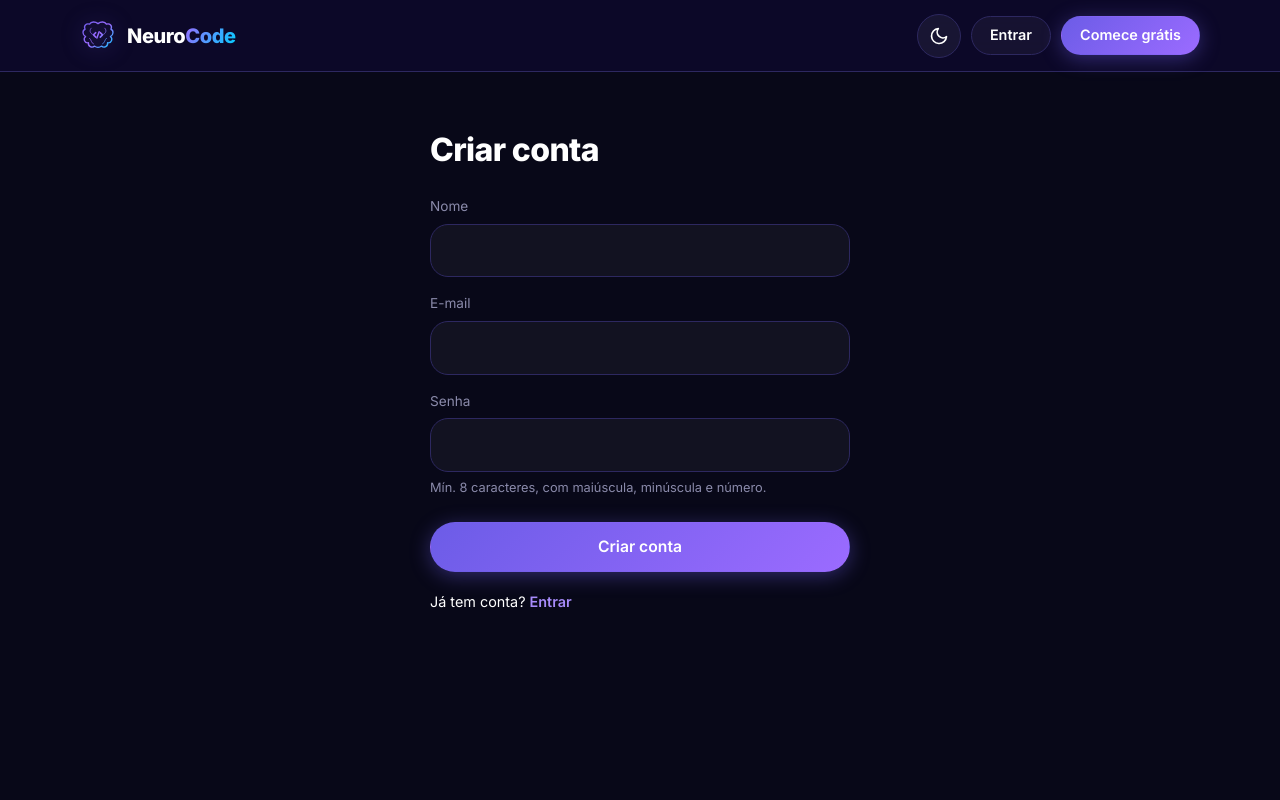
Test: Cadastro › cria conta e cai na dashboard
Type "Rangel" into the field labelled "Nome" at [640, 250], box [430,224,850,277]
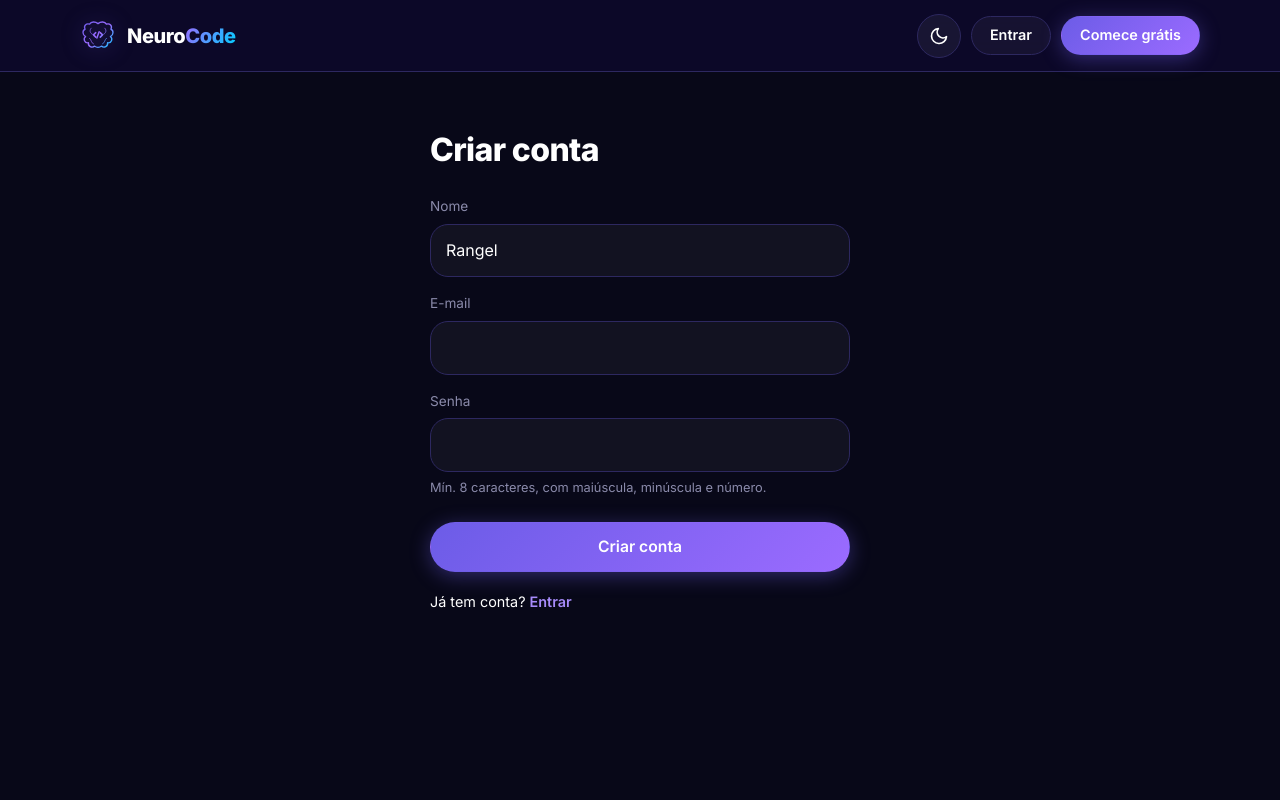
Type "r@neuro.dev" into the field labelled "E-mail" at [640, 348], box [430,321,850,374]
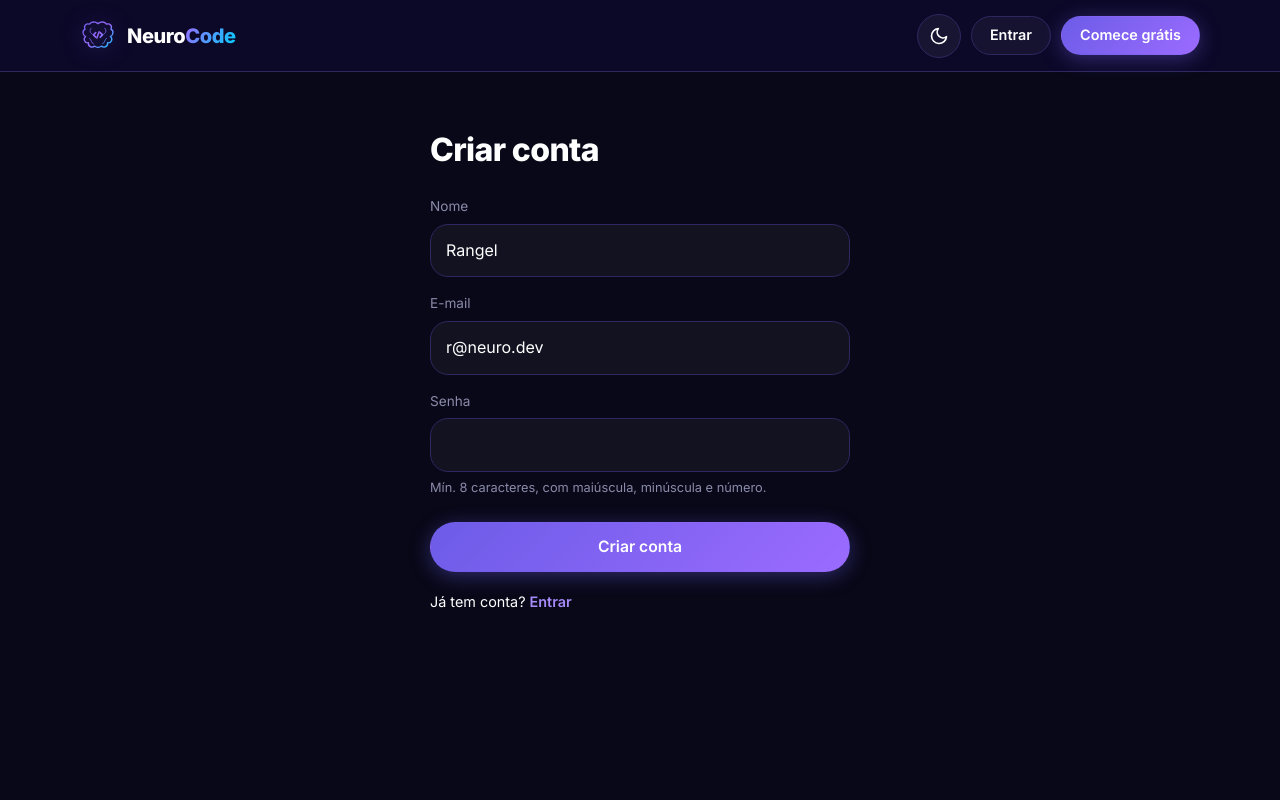
Type "Sup3rSecret" into the password field labelled "Senha" at [640, 445], box [430,418,850,472]
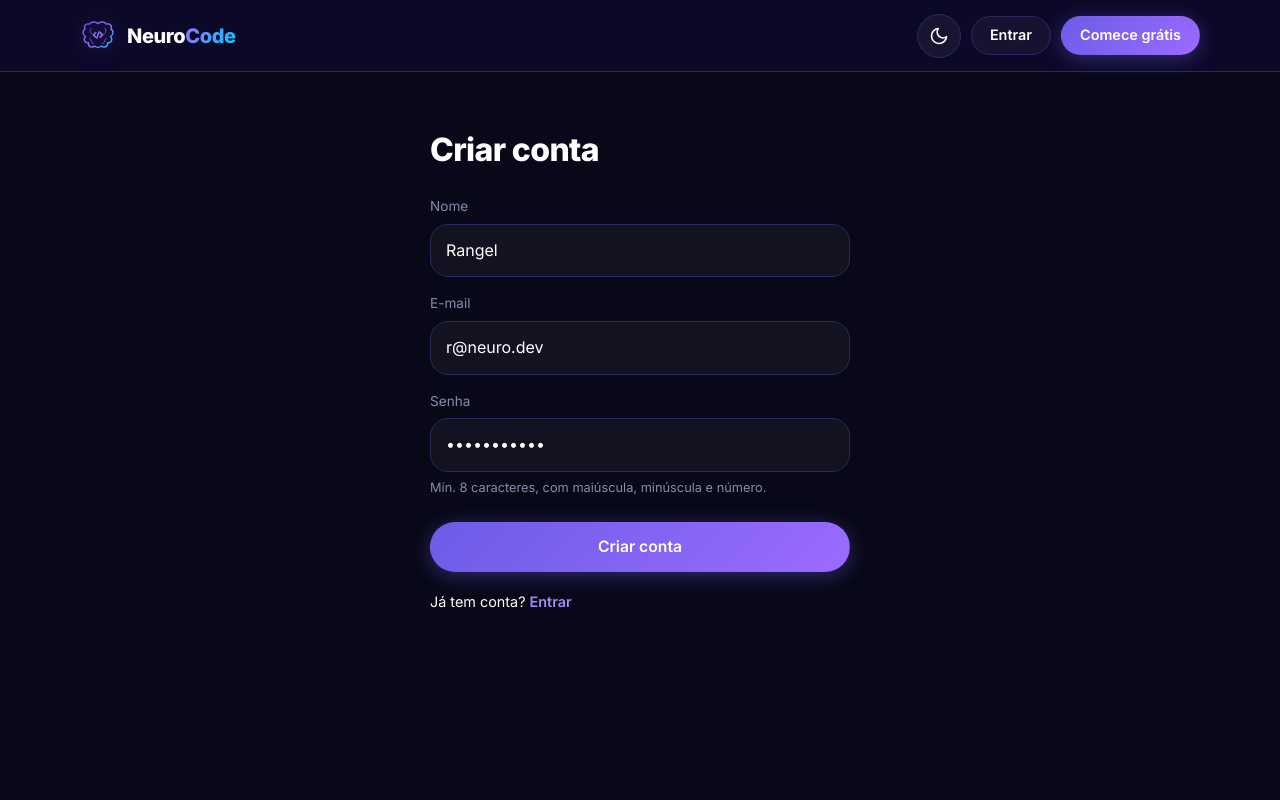
Click the button "Criar conta" at [640, 547], box [430,522,850,572]
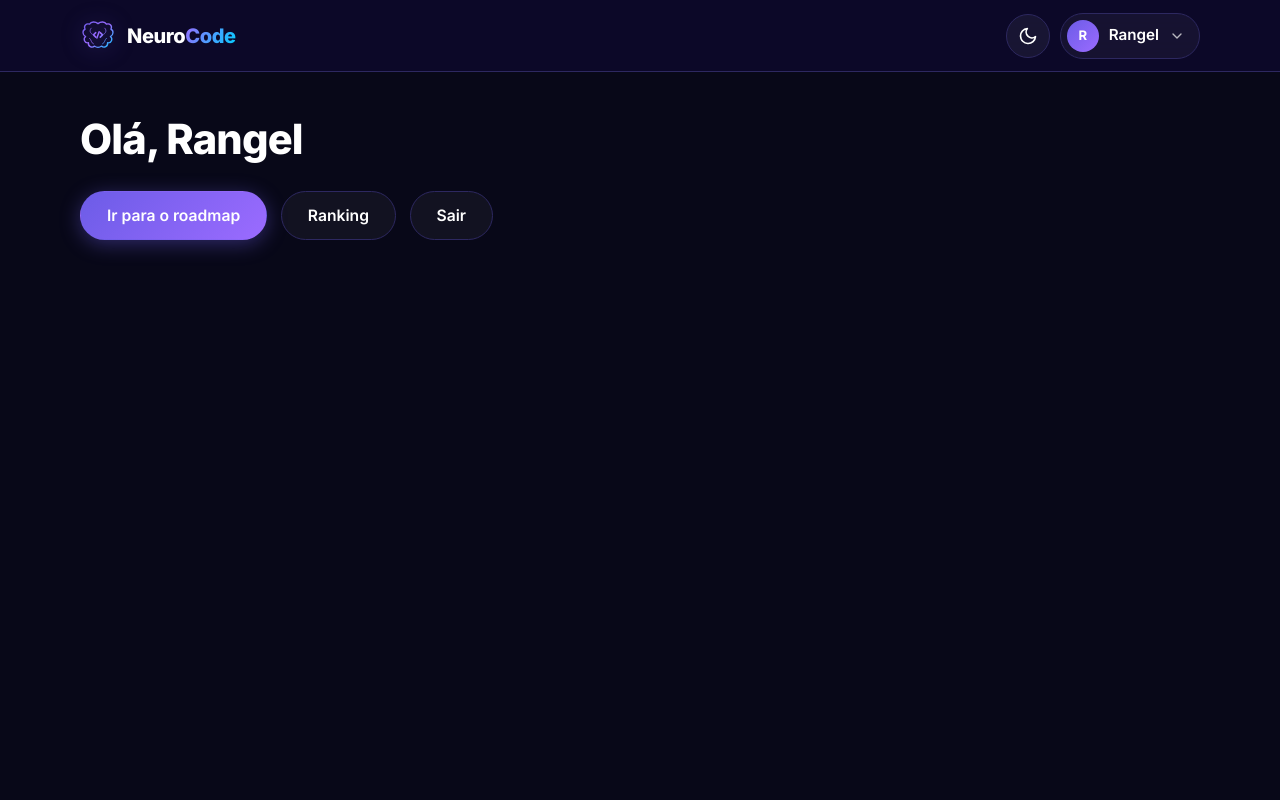
Expected: the heading "Olá, Rangel" is shown, [80,114,303,164]
